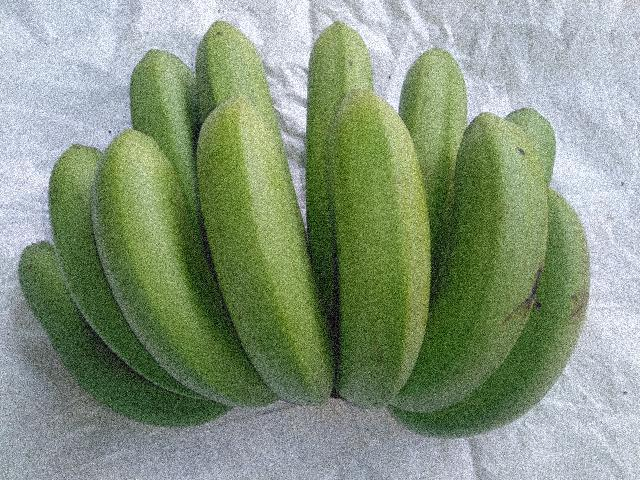freshunripe: (87, 114, 277, 427), (189, 92, 336, 411), (333, 81, 433, 416), (46, 135, 152, 351), (266, 7, 380, 162), (121, 32, 206, 151), (401, 33, 474, 157), (190, 13, 258, 102)
unripe: (404, 97, 534, 424), (468, 177, 588, 458)
